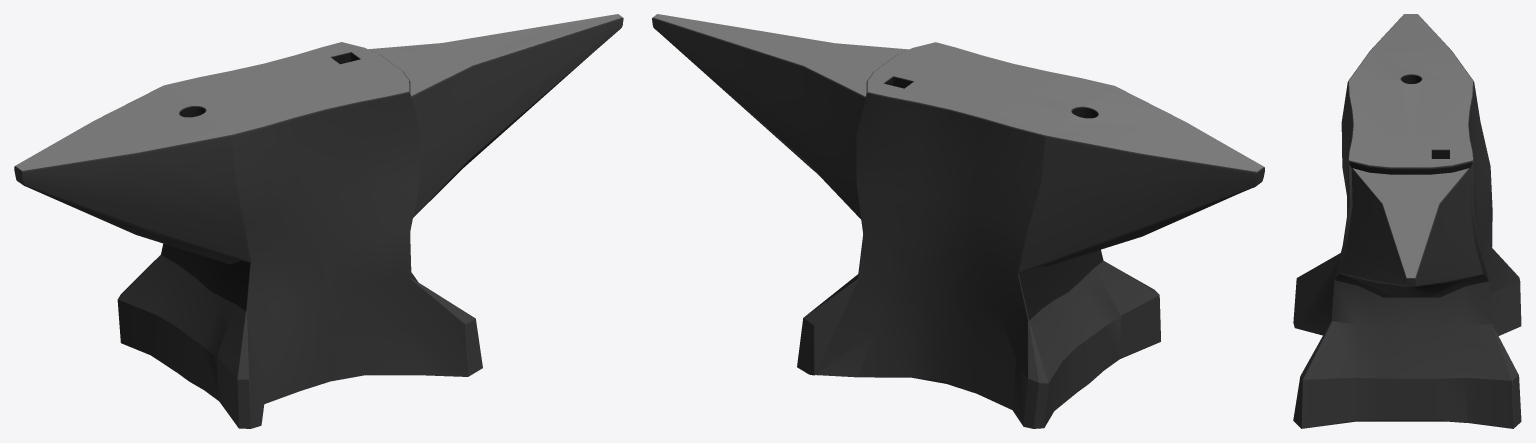
The model's file is UD_SAF_Anvil.fbx.
The picture shows the model from 3 angles, left to right: view 1: azimuth 30°, elevation 25°; view 2: azimuth 150°, elevation 25°; view 3: azimuth 270°, elevation 25°; orthographic projection. The views are drawn at different scales.
Visible parts, largest first — view 1: Anvil_Double_Horn; view 2: Anvil_Double_Horn; view 3: Anvil_Double_Horn.
Boxes of the visible parts, x1,y1,x2,y2 form: Anvil_Double_Horn: (14, 14, 623, 428); Anvil_Double_Horn: (652, 14, 1264, 428); Anvil_Double_Horn: (1293, 14, 1521, 428).
Size of the model in its own units: 79.54 by 34.09 by 28.41.
